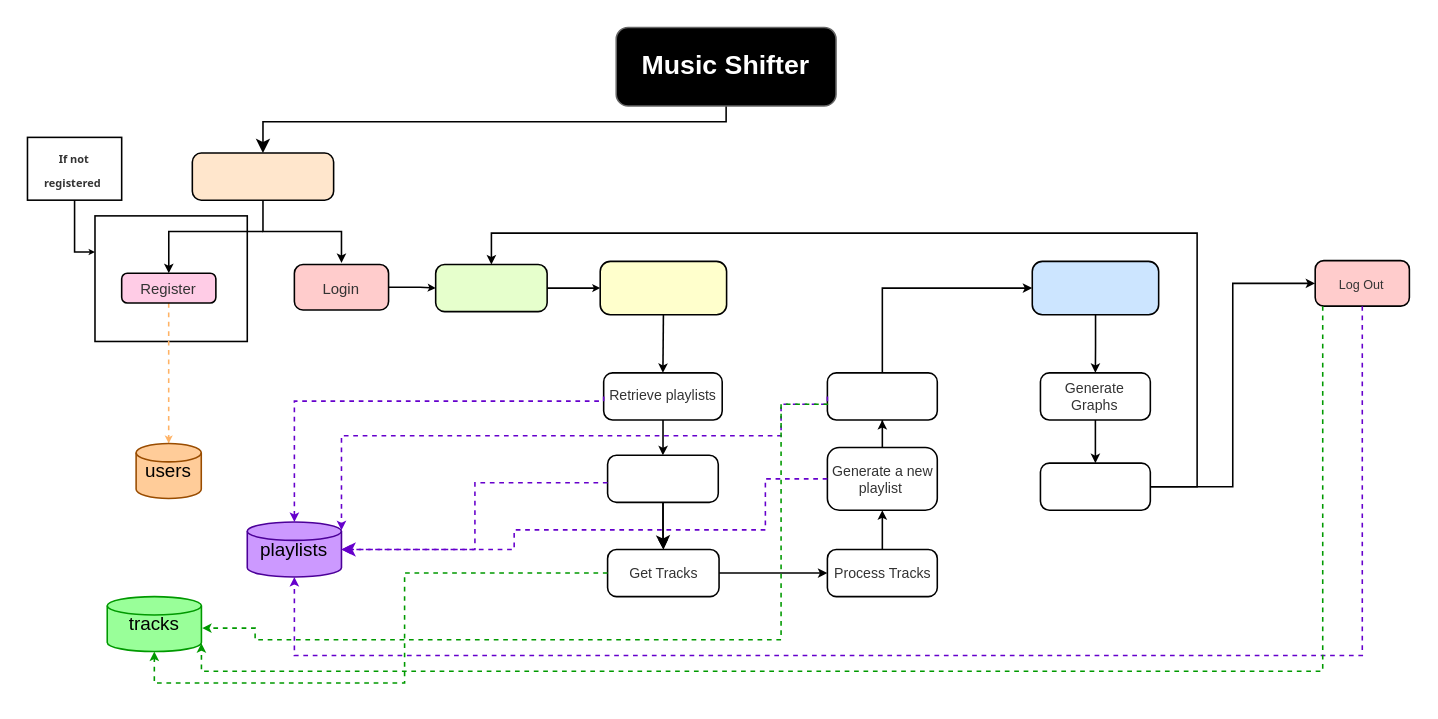
Image size: 1438x719. Some labels were removed from this diagram. Each missing label, with the centre of its shape:
"Display Graphs" goes at [1094,486].
"Get OAuth" goes at [490,287].
"Insights" goes at [1095,287].
"Select Playlist" goes at [662,478].
"Select Transfer way" goes at [663,287].
"Transfer Tracks" goes at [881,395].
"User Authentication" goes at [262,176].
